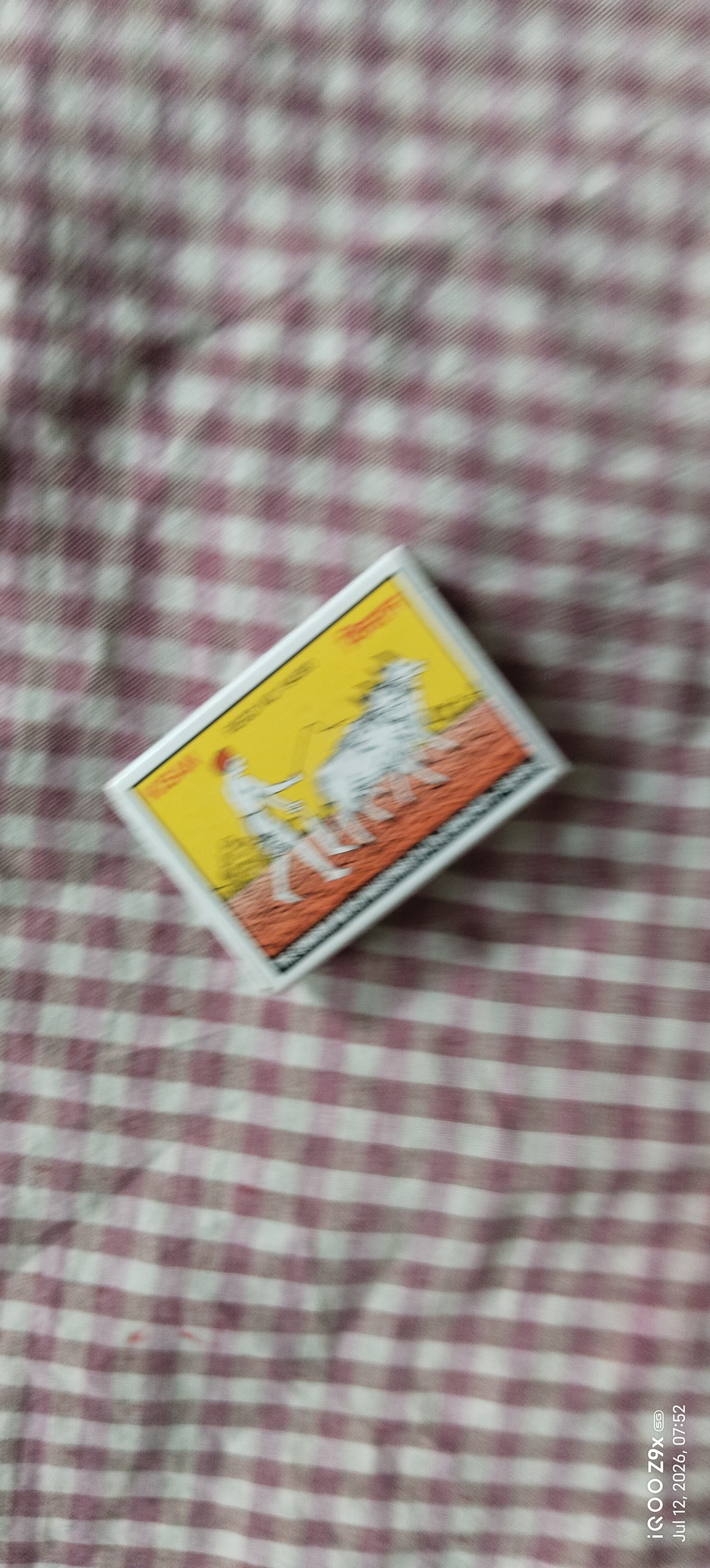matchbox: (67, 539, 635, 1035)
